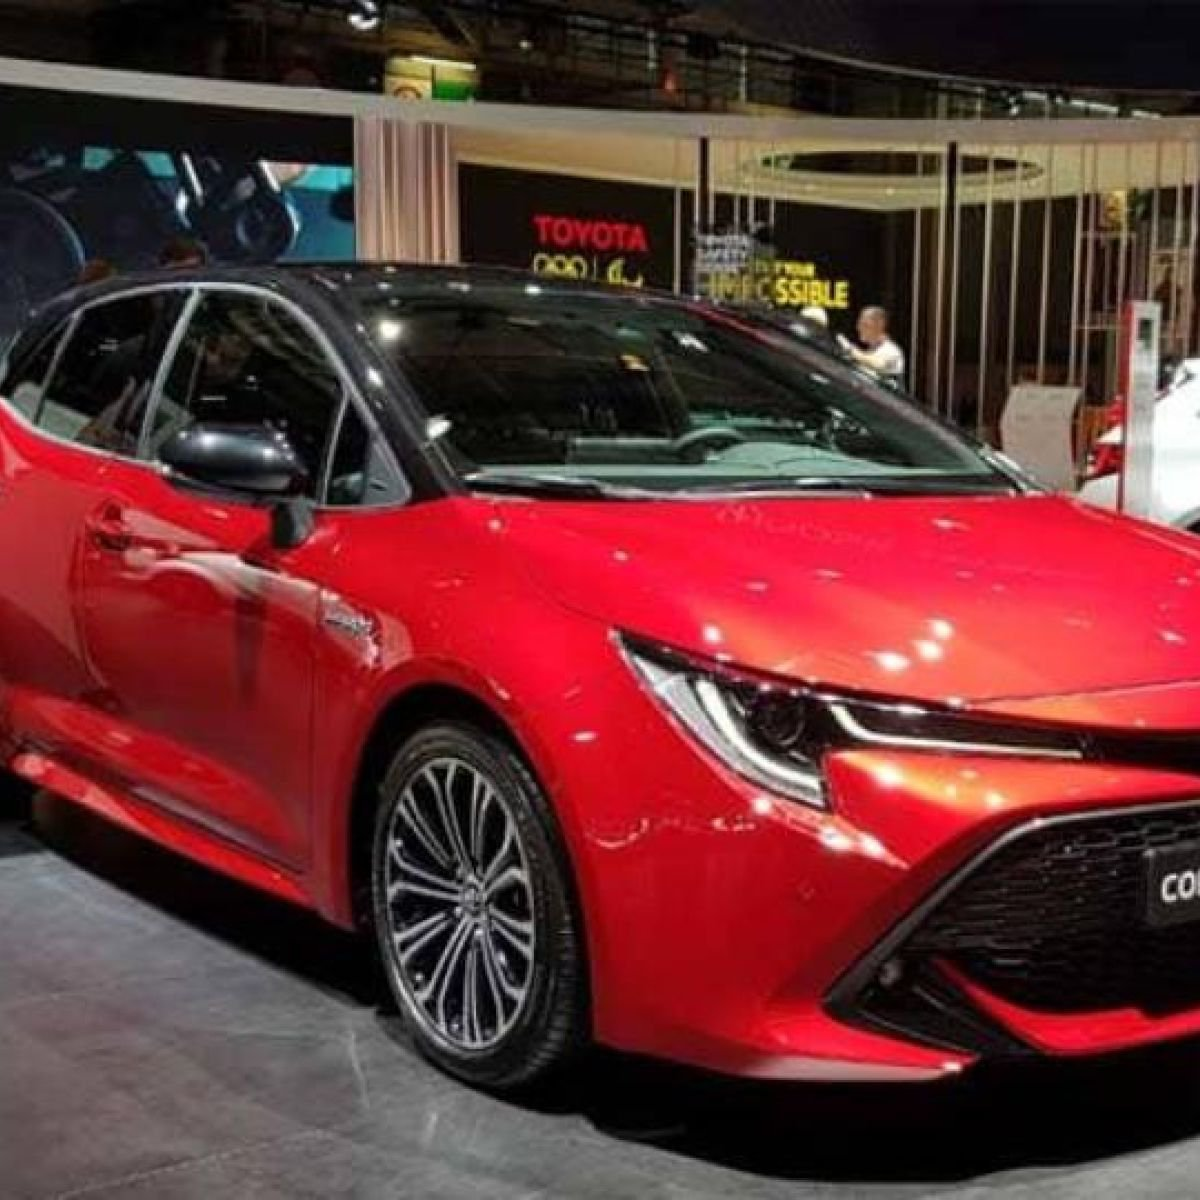car: (7, 265, 1195, 1099)
